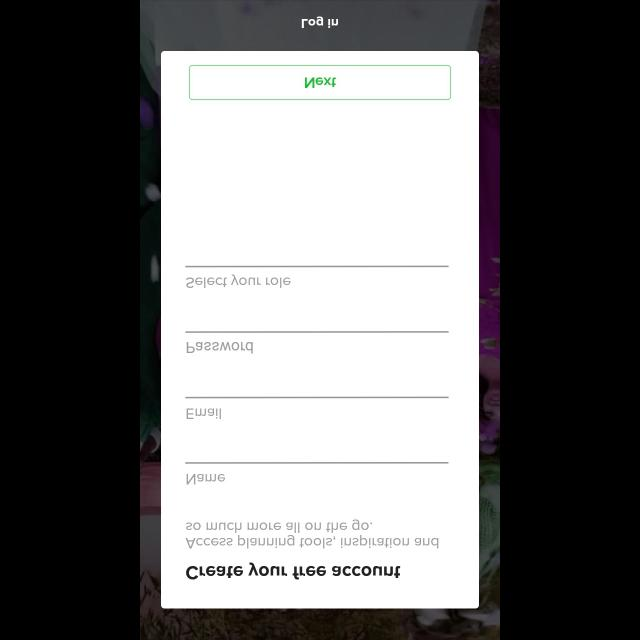input: (185, 331, 448, 354), (185, 396, 448, 419), (185, 462, 449, 484), (185, 266, 448, 288)
panel: (161, 51, 479, 608)
text: (185, 520, 438, 548), (186, 561, 400, 579), (187, 274, 291, 288), (186, 341, 254, 353), (302, 16, 338, 28), (187, 474, 226, 484), (186, 408, 222, 418)
textbutton: (189, 64, 451, 100)
